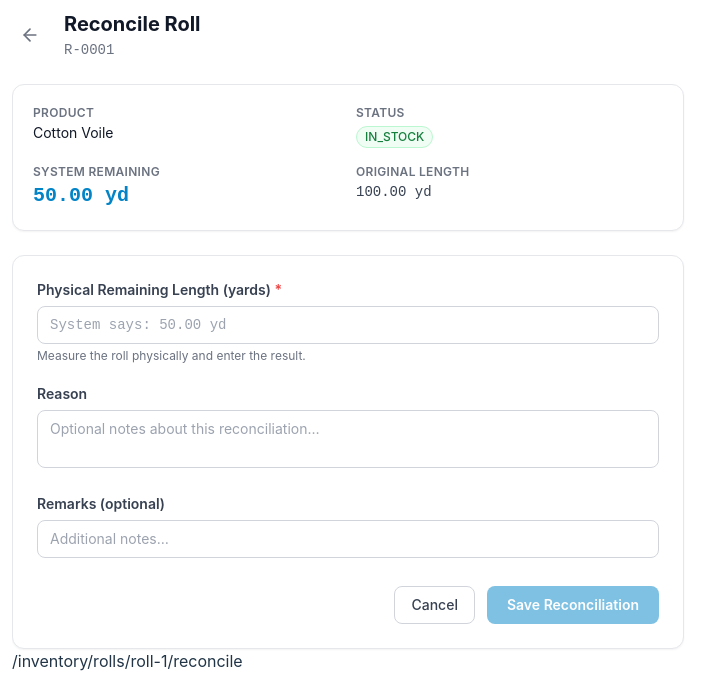
it: Roll reconciliation form › rejects more than 4 decimal places
The width and height of the screenshot is (701, 688).
Type "47.12345" into the number field labelled "Physical Remaining Length (yards) *".
click(348, 324); type("47.12345")  # box top-left (37, 306), bottom-right (659, 344)
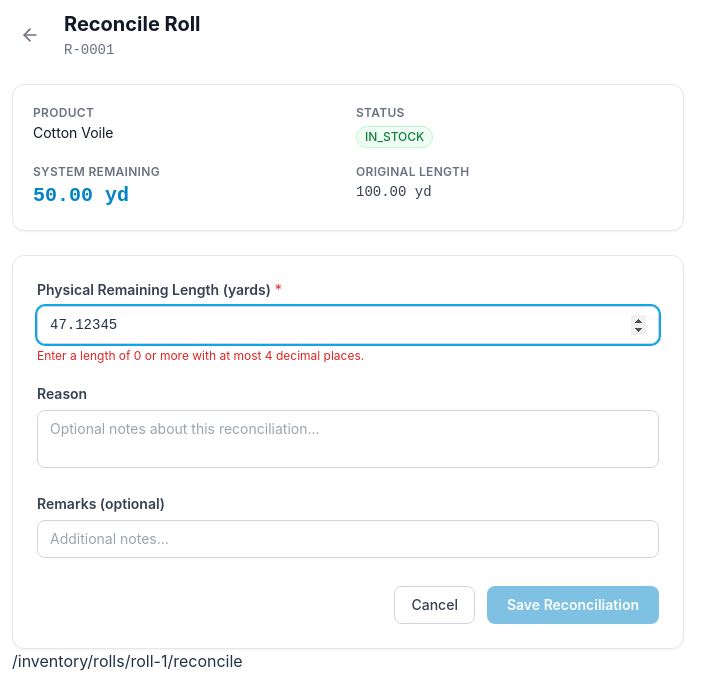
Check: the button "Save Reconciliation" is disabled, box top-left (487, 586), bottom-right (659, 624)
Check: the text "Enter a length of 0 or more with at most 4 decimal places." is shown, box top-left (37, 348), bottom-right (364, 362)
